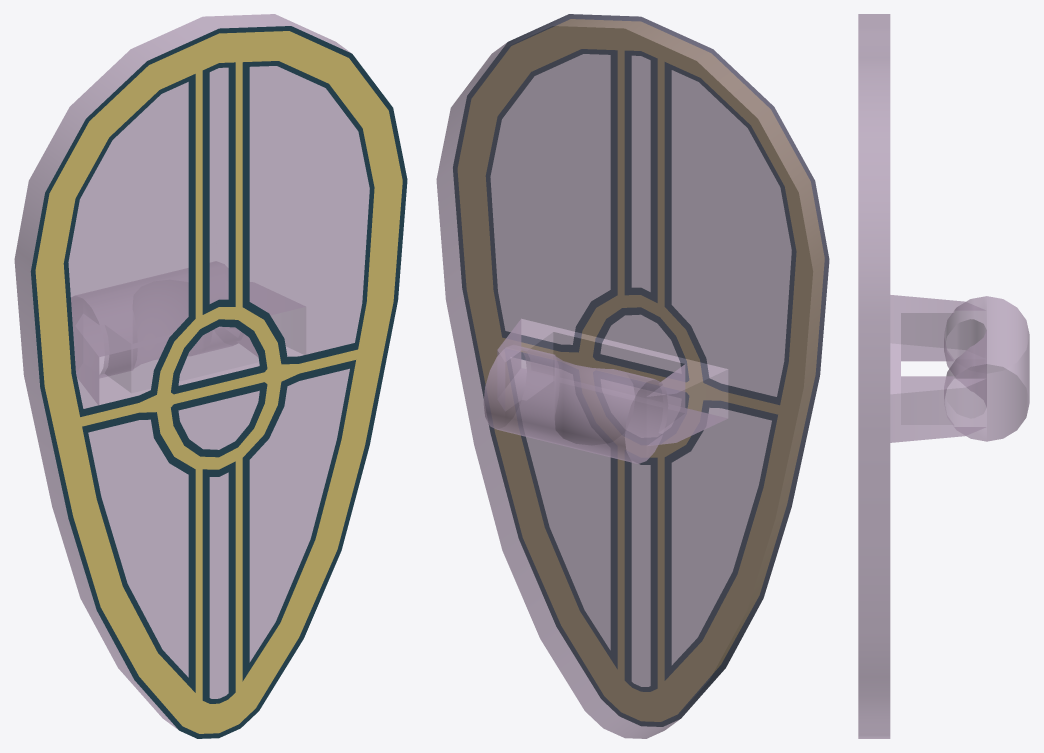
Rendered from Gungan Patrol sheild 2.dae.
3 renders of one model, left to right at view 1: azimuth 30°, elevation 25°; view 2: azimuth 150°, elevation 25°; view 3: azimuth 270°, elevation 25°, orthographic.
Visible parts, largest first — view 1: Object; view 2: Object; view 3: Object.
Boxes of the visible parts, <box> form: Object: <box>14,14,407,738</box>; Object: <box>436,14,829,738</box>; Object: <box>858,14,1029,738</box>.
Size of the model in its own units: 16 by 6.4 by 28.8.
